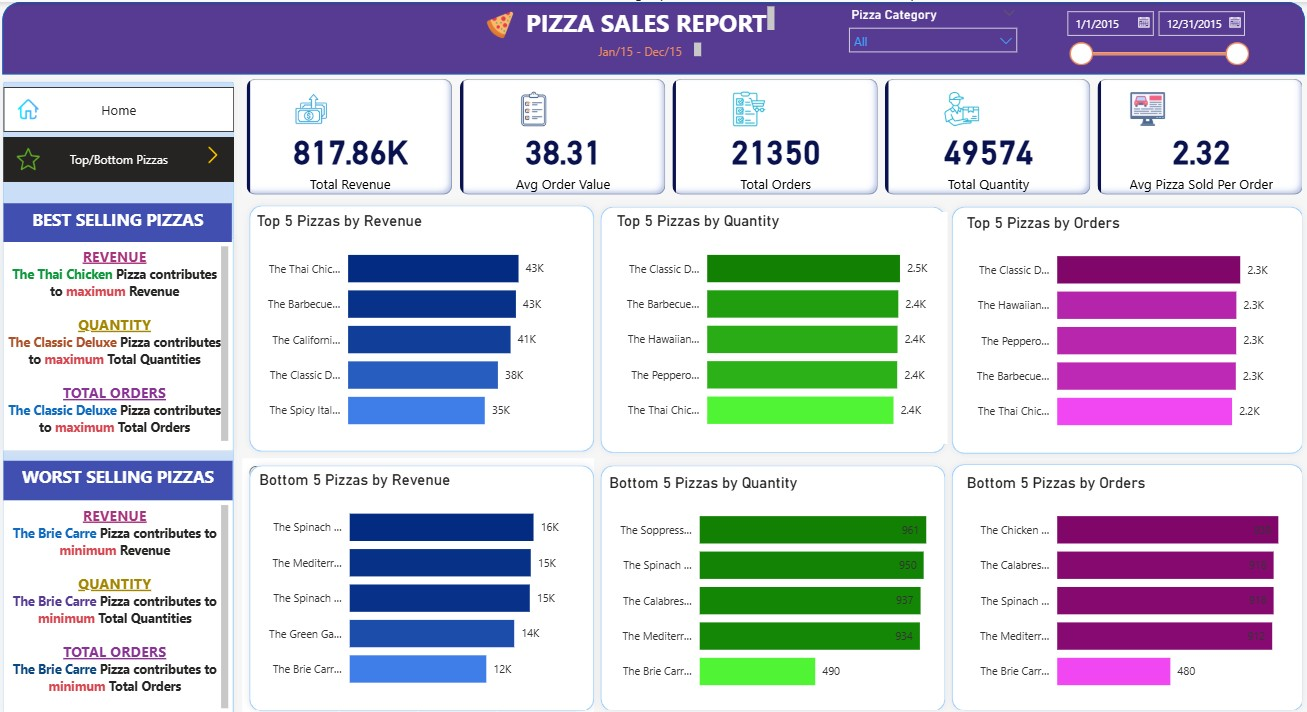

Layout of this report page (visuals, bound fields, positions):
{"tool":"powerbi","page":{"name":"Top/Bottom Pizzas","canvas":[1500,820],"ordinal":1},"visuals":[{"type":"shape","box":[22.3,80.8,273,721.4],"z":0},{"type":"textbox","box":[31.5,223.8,254.5,42.9],"z":0,"group":"g4"},{"type":"textbox","box":[31.5,511.2,255,43.8],"z":0,"group":"g3"},{"type":"cardVisual","fields":{"Data":["pizza_sales_db pizza_sales.Total Revenue","pizza_sales_db pizza_sales.Avg Order Value","pizza_sales_db pizza_sales.Total Orders","pizza_sales_db pizza_sales.Total Quantity","pizza_sales_db pizza_sales.Avg Pizza Sold Per Order"]},"box":[296.6,80.8,1190.7,139.3],"z":1000},{"type":"textbox","box":[31.2,266.8,255,232],"z":1000,"group":"g4"},{"type":"textbox","box":[31.2,555.1,255.5,237],"z":1000,"group":"g3"},{"type":"shape","box":[29.2,0,1452.6,80.8],"z":2000},{"type":"textbox","box":[607.5,0,287.5,40],"z":3000},{"type":"textbox","box":[687.5,40,125,25],"z":4000},{"type":"image","box":[560,6.2,47.5,40],"z":5000},{"type":"shape","box":[296.3,218.3,400,290.2],"z":5000,"group":"g1"},{"type":"shape","box":[296.2,508.8,400,290.2],"z":5000,"group":"g5"},{"type":"shape","box":[687.8,219.5,400,290.2],"z":6000},{"type":"shape","box":[1080,220,407.5,291.2],"z":7000},{"type":"shape","box":[22,255.3,272.7,252],"z":8000},{"type":"group","id":"g1","title":"Group 1","box":[296,218.3,400.3,583.7],"z":9000},{"type":"group","id":"g2","title":"Group 2","box":[31.2,223.8,255,275],"z":10000},{"type":"group","id":"g3","title":"Group 3","box":[31.2,511.2,255,281.2],"z":11000},{"type":"slicer","fields":{"Values":["pizza_sales_db pizza_sales.pizza_category"]},"box":[962.2,0,207.8,65.6],"z":12000},{"type":"slicer","fields":{"Values":["pizza_sales_db pizza_sales.order_date"]},"box":[1203.3,0,223.3,88.9],"z":13000},{"type":"shape","box":[687.5,508.8,400,290],"z":14000},{"type":"shape","box":[1080,507.5,407.5,291.2],"z":15000},{"type":"group","id":"g4","title":"Group 3","box":[31.2,223.8,255,275],"z":15001,"group":"g2"},{"type":"group","id":"g5","title":"Group 1","box":[296.2,508.8,400,290],"z":16000},{"type":"barChart","title":"Top 5 Pizzas by Revenue","fields":{"Y":["pizza_sales_db pizza_sales.Total Revenue"],"Category":["pizza_sales_db pizza_sales.pizza_name"]},"box":[307.9,233.6,374.3,258.6],"z":17000},{"type":"barChart","title":"Bottom 5 Pizzas by Revenue","fields":{"Y":["pizza_sales_db pizza_sales.Total Revenue"],"Category":["pizza_sales_db pizza_sales.pizza_name"]},"box":[310,522.7,373.6,258.2],"z":18000},{"type":"barChart","box":[296,508,392,294],"z":18004,"group":"g1"},{"type":"barChart","title":"Top 5 Pizzas by Quantity","fields":{"Category":["pizza_sales_db pizza_sales.pizza_name"],"Y":["pizza_sales_db pizza_sales.Total Quantity"]},"box":[709.1,234.5,373.6,258.2],"z":19000},{"type":"barChart","title":"Bottom 5 Pizzas by Quantity","fields":{"Category":["pizza_sales_db pizza_sales.pizza_name"],"Y":["pizza_sales_db pizza_sales.Total Quantity"]},"box":[700.9,525.5,373.6,258.2],"z":20000},{"type":"barChart","title":"Top 5 Pizzas by Orders","fields":{"Category":["pizza_sales_db pizza_sales.pizza_name"],"Y":["pizza_sales_db pizza_sales.Total Orders"]},"box":[1098.2,235.5,373.6,258.2],"z":21000},{"type":"barChart","title":" Bottom 5 Pizzas by Orders","fields":{"Category":["pizza_sales_db pizza_sales.pizza_name"],"Y":["pizza_sales_db pizza_sales.Total Orders"]},"box":[1098.2,525.5,373.6,258.2],"z":22000},{"type":"pageNavigator","box":[30,94.2,257.8,50],"z":22001},{"type":"pageNavigator","box":[30,149.9,257.8,50],"z":22002},{"type":"image","box":[242.7,155.3,43.3,29.3],"z":22003},{"type":"image","box":[31.1,103.3,54.4,33.3],"z":22004},{"type":"image","box":[33.3,157.2,50,35.6],"z":22005}]}

Visuals, with their boxes in screenshot pixels (x1, y1, x2, y2), scaled from the page's 1500x820 canvas onto the 1307x712 screenshot:
shape: 19,70,257,697
textbox: 27,194,249,232
textbox: 27,444,250,482
cardVisual - pizza_sales_db pizza_sales.Total Revenue x pizza_sales_db pizza_sales.Avg Order Value: 258,70,1296,191
textbox: 27,232,249,433
textbox: 27,482,250,688
shape: 25,0,1291,70
textbox: 529,0,780,35
textbox: 599,35,708,56
image: 488,5,529,40
shape: 258,190,607,442
shape: 258,442,607,694
shape: 599,191,948,443
shape: 941,191,1296,444
shape: 19,222,257,440
"Group 1" group: 258,190,607,696
"Group 2" group: 27,194,249,433
"Group 3" group: 27,444,249,688
slicer - pizza_sales_db pizza_sales.pizza_category: 838,0,1019,57
slicer - pizza_sales_db pizza_sales.order_date: 1048,0,1243,77
shape: 599,442,948,694
shape: 941,441,1296,694
"Group 3" group: 27,194,249,433
"Group 1" group: 258,442,607,694
"Top 5 Pizzas by Revenue" barChart: 268,203,594,427
"Bottom 5 Pizzas by Revenue" barChart: 270,454,596,678
barChart: 258,441,599,696
"Top 5 Pizzas by Quantity" barChart: 618,204,943,428
"Bottom 5 Pizzas by Quantity" barChart: 611,456,936,680
"Top 5 Pizzas by Orders" barChart: 957,204,1282,429
" Bottom 5 Pizzas by Orders" barChart: 957,456,1282,680
pageNavigator: 26,82,251,125
pageNavigator: 26,130,251,174
image: 211,135,249,160
image: 27,90,74,119
image: 29,136,73,167
